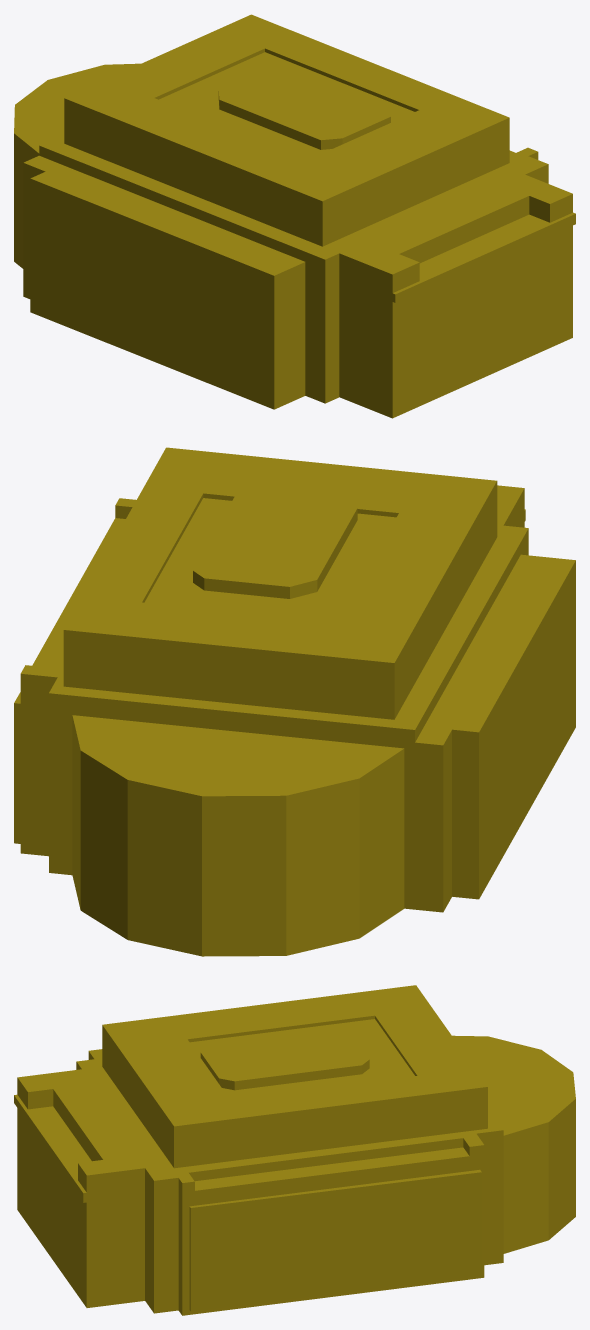
File: Sheffield City Hall.fbx
3 views of the same model, one above another, from view 1: azimuth 30°, elevation 25°; view 2: azimuth 150°, elevation 25°; view 3: azimuth 270°, elevation 25° (orthographic). The views are drawn at different scales.
Parts seen in each view (by area): view 1: mesh1.003; view 2: mesh1.003; view 3: mesh1.003.
Part boxes in pixels (x1,y1,x2,y2): mesh1.003: (14,14,575,418); mesh1.003: (14,447,575,956); mesh1.003: (14,985,575,1315).
Size of the model in its own units: 6013 by 2810 by 7944.
